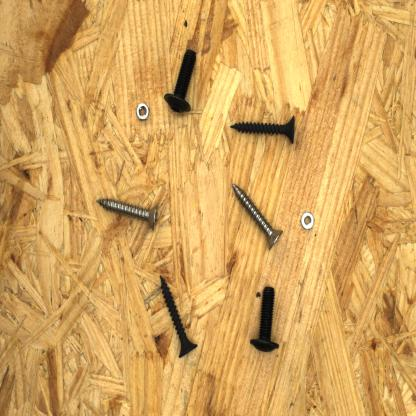screw: (229, 181, 285, 253), (158, 273, 202, 361), (160, 44, 200, 117), (92, 194, 162, 234), (228, 111, 298, 149), (248, 283, 283, 355)
